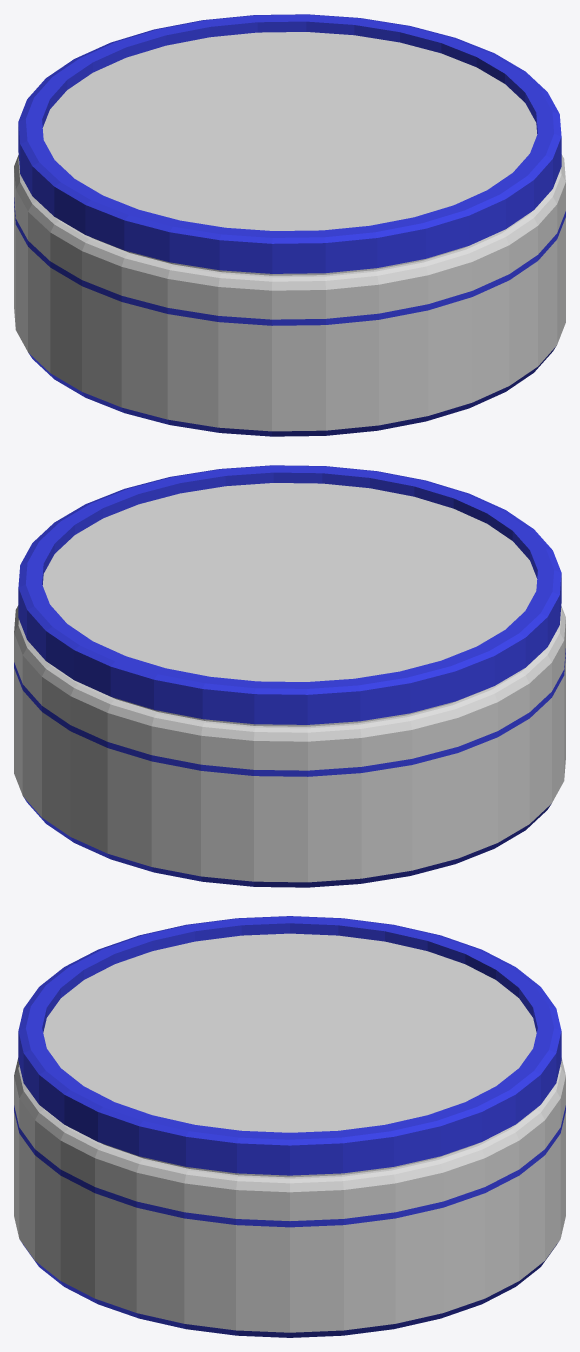
The model's file is vazelin.glb.
3 views of the same model, one above another, from view 1: azimuth 30°, elevation 25°; view 2: azimuth 150°, elevation 25°; view 3: azimuth 270°, elevation 25° (orthographic).
Parts seen in each view (by area): view 1: Cylinder; view 2: Cylinder; view 3: Cylinder.
Boxes of the visible parts, left/top/right/bottom form: Cylinder: left=14, top=14, right=565, bottom=436; Cylinder: left=14, top=465, right=565, bottom=887; Cylinder: left=14, top=916, right=565, bottom=1337.
Bounding box in the file's own units: 2.03 × 0.8382 × 2.03.
